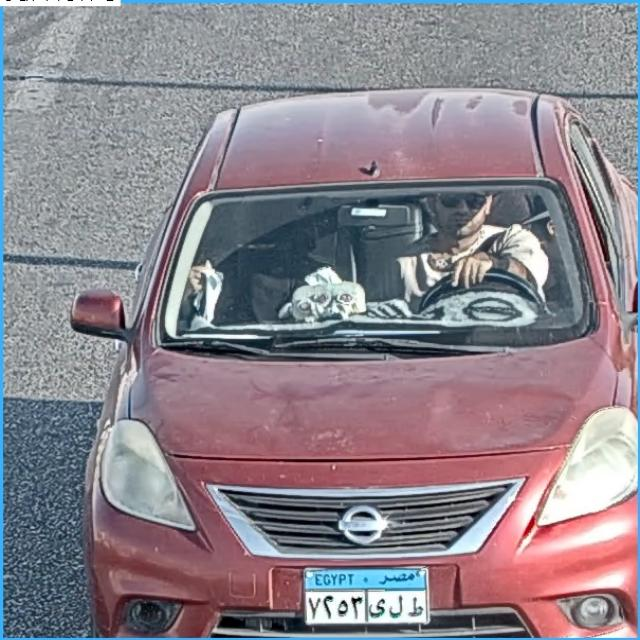windshield: (157, 185, 594, 350)
